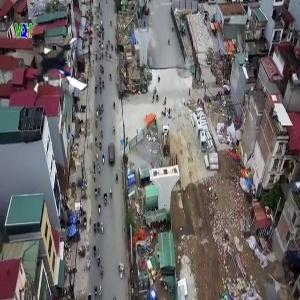drone: (27, 32, 102, 107)
